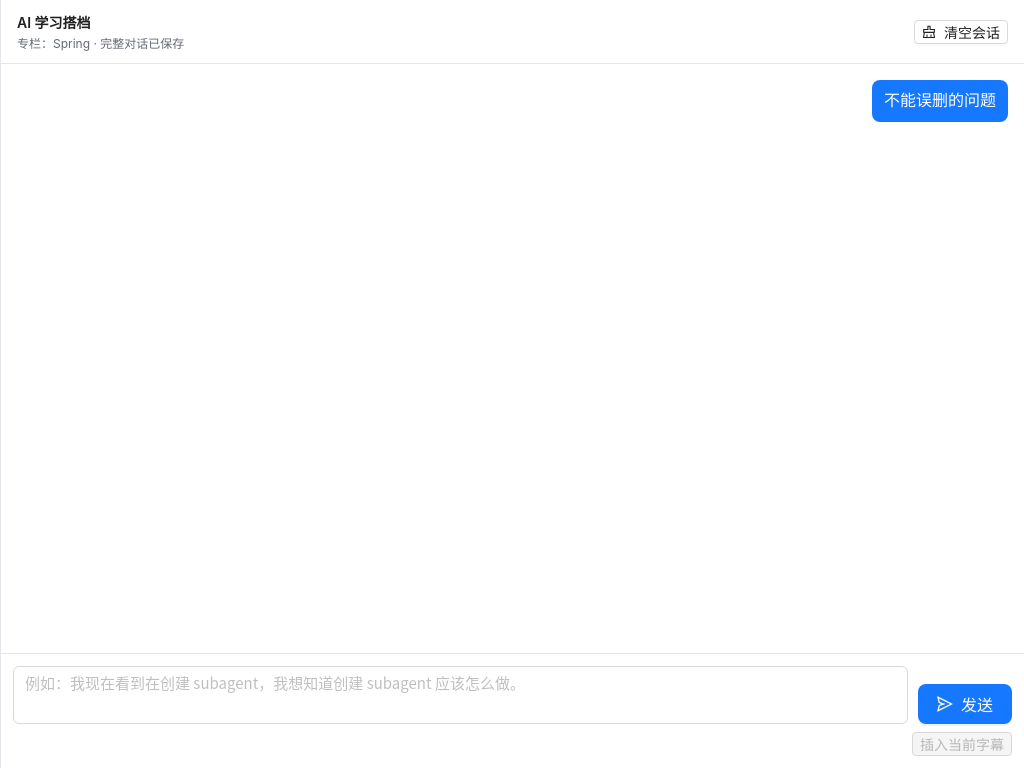
Test case: AI 侧栏模型降级 › 清空接口失败时保留本地历史并提示失败
Expected: the text "不能误删的问题" is shown, [872,80,1008,122]
Click the button "清空会话": (961, 32) [914,20,1008,44]
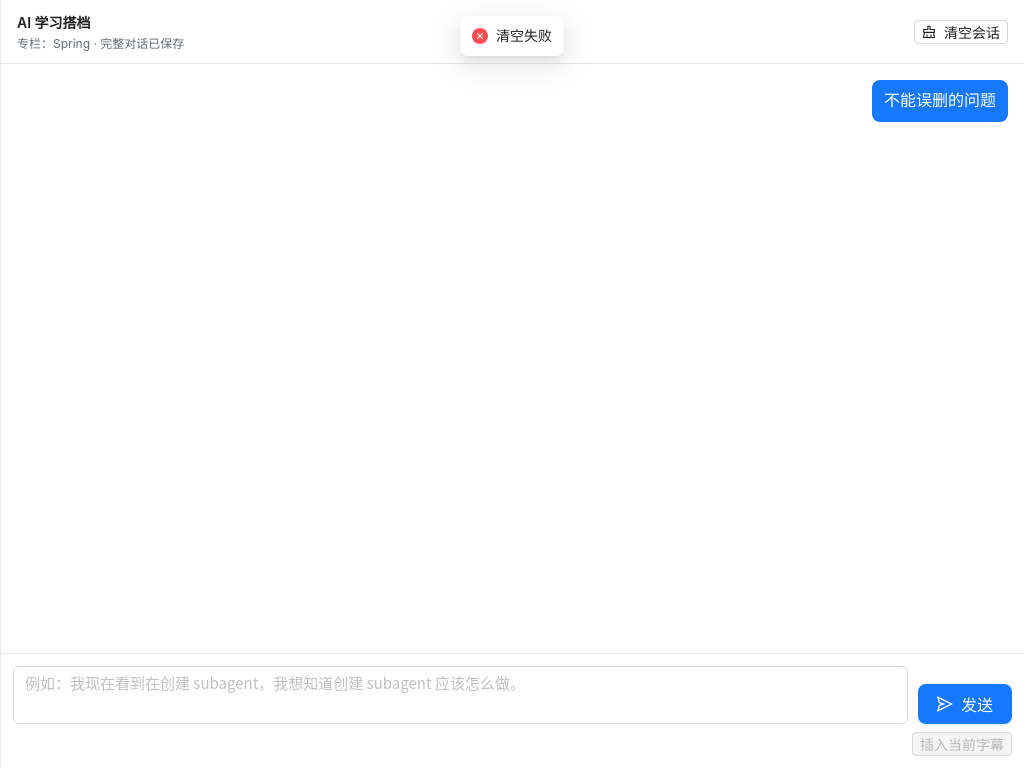
Expected: the text "不能误删的问题" is shown, [872,80,1008,122]
Result: the text "清空失败" is shown at [496,25,552,47]
